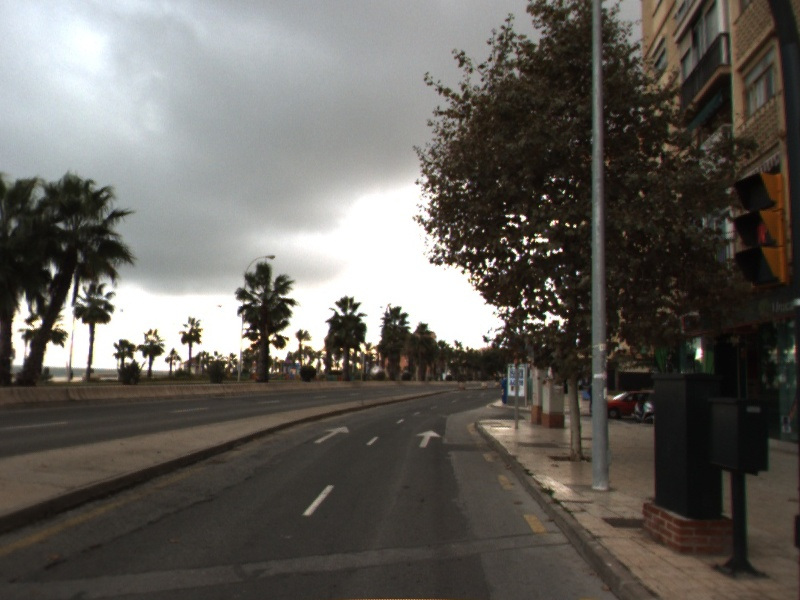STRAIGHT: (313, 424, 351, 444), (415, 428, 443, 449)
